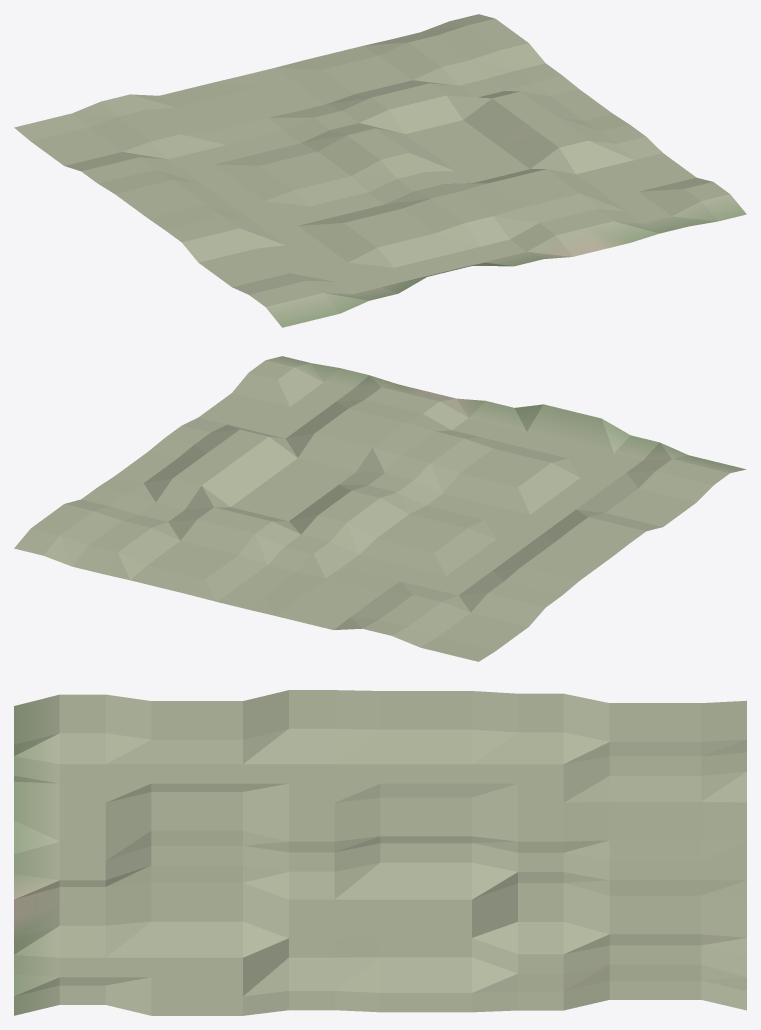
The picture shows the model from 3 angles, top to bottom: view 1: azimuth 30°, elevation 25°; view 2: azimuth 150°, elevation 25°; view 3: azimuth 270°, elevation 25°; orthographic projection. The views are drawn at different scales.
Size of the model in its own units: 32 by 1.02 by 32.
